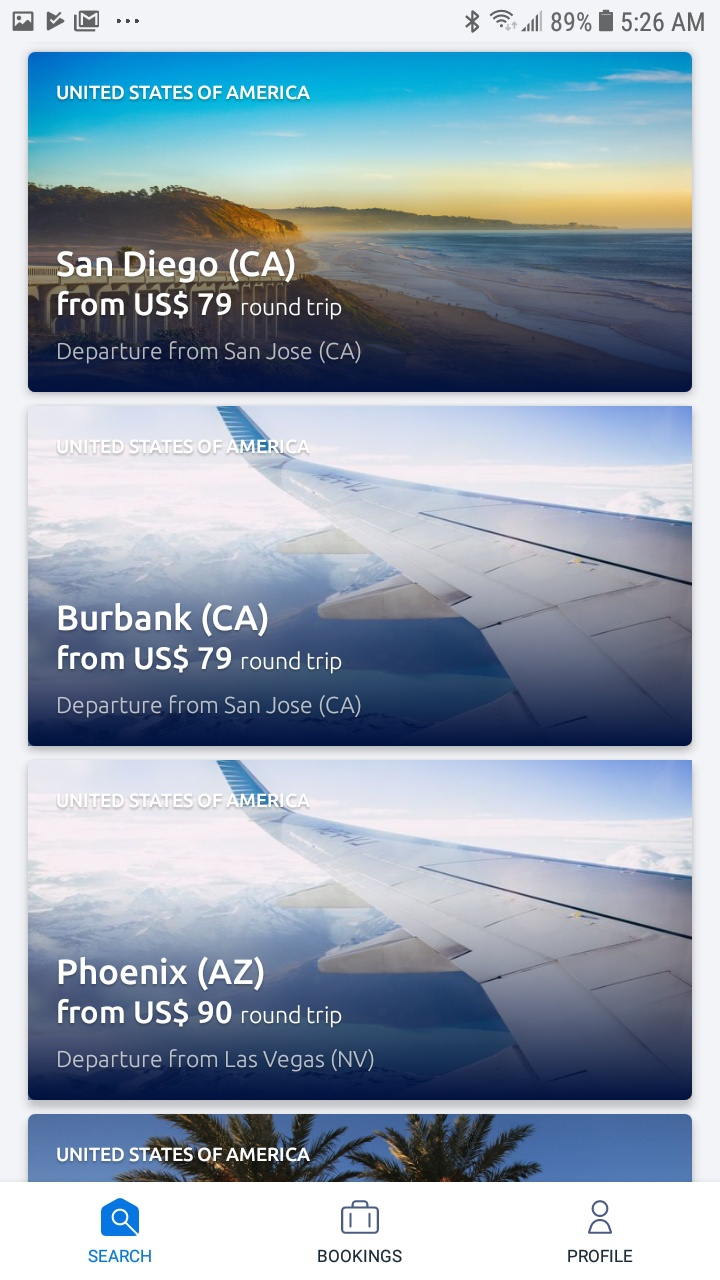Icon: (101, 1197, 140, 1237), (341, 1199, 380, 1235), (587, 1199, 613, 1235)
Image: (28, 52, 693, 393), (28, 406, 693, 747), (29, 760, 692, 1101), (28, 1114, 693, 1182)
Text: (58, 956, 343, 1029), (58, 602, 343, 674), (57, 249, 342, 320), (58, 1048, 375, 1073), (58, 341, 362, 365), (58, 694, 362, 718), (55, 83, 310, 102), (57, 793, 311, 809), (57, 1146, 311, 1162), (57, 440, 311, 455), (318, 1249, 403, 1263), (568, 1249, 633, 1263), (89, 1249, 153, 1263)
UpperTaskBar: (1, 1, 720, 43)
